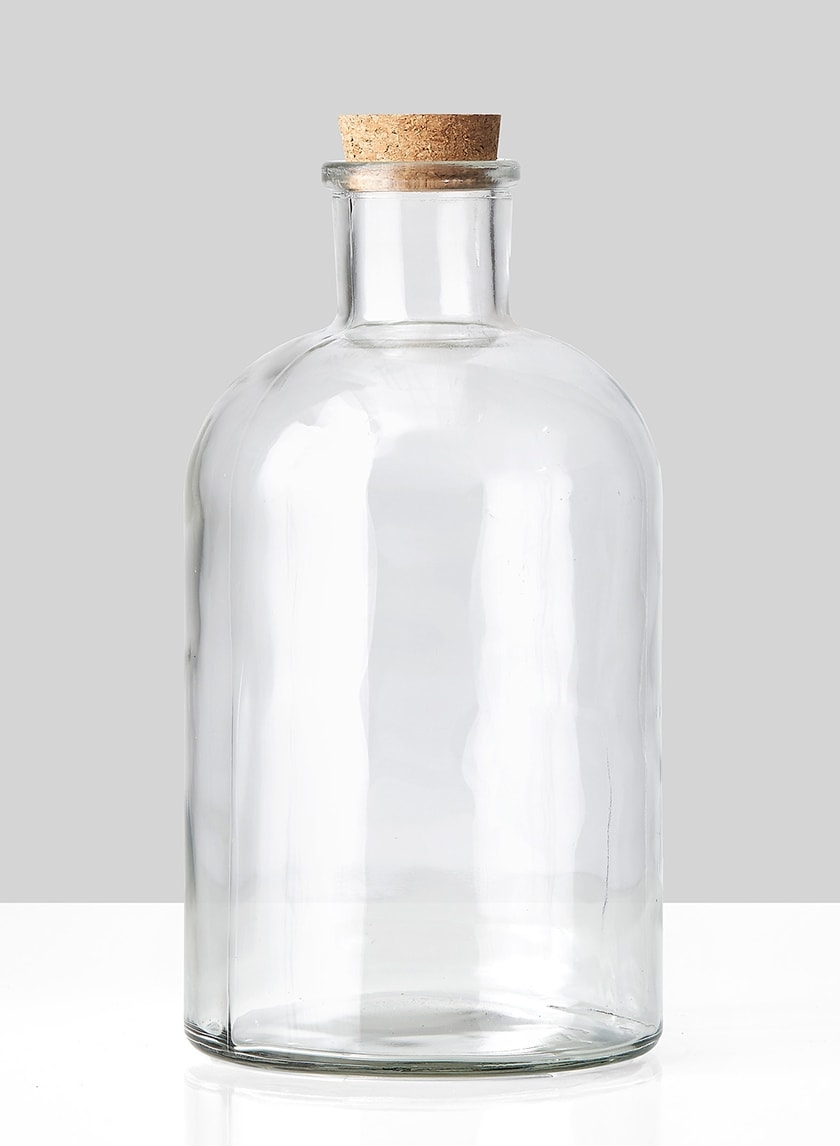glass_bottle: (145, 94, 727, 1099)
